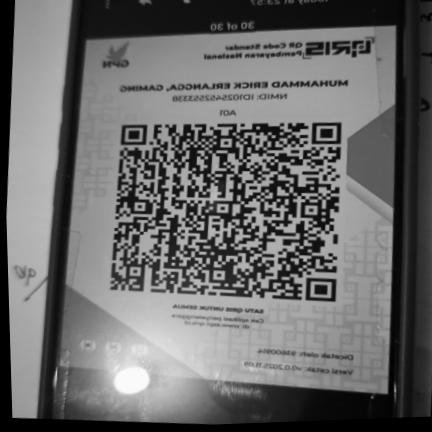Cara Pakai QRIS: (69, 326, 166, 373)
Cek Aplikasi Penyelenggara: (165, 311, 267, 333)
Dicetak Oleh: (248, 345, 361, 362)
Logo GPN: (93, 40, 137, 73)
Logo dan deskripsi QRIS: (195, 32, 386, 67)
Nama Merchant: (113, 74, 354, 95)
National Merchant ID: (166, 91, 291, 103)
QR Code: (105, 118, 345, 306)
Slogan: (166, 301, 268, 316)
Terminal ID: (213, 107, 239, 117)
Versi Cetak: (239, 357, 360, 379)
